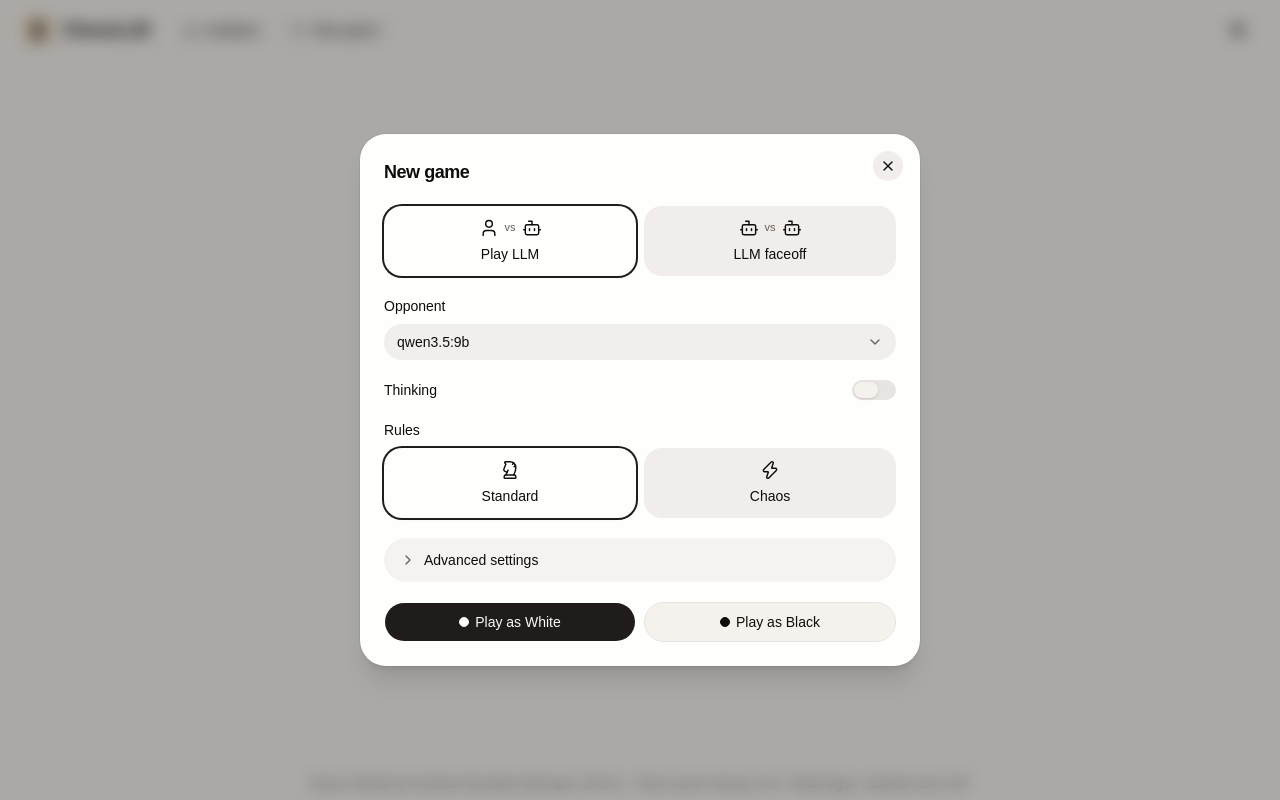
Test: with no current game › starting from the sheet plays the default settings as set
Click the button "Play as White": click(510, 622) x1=384 y1=602 x2=636 y2=642
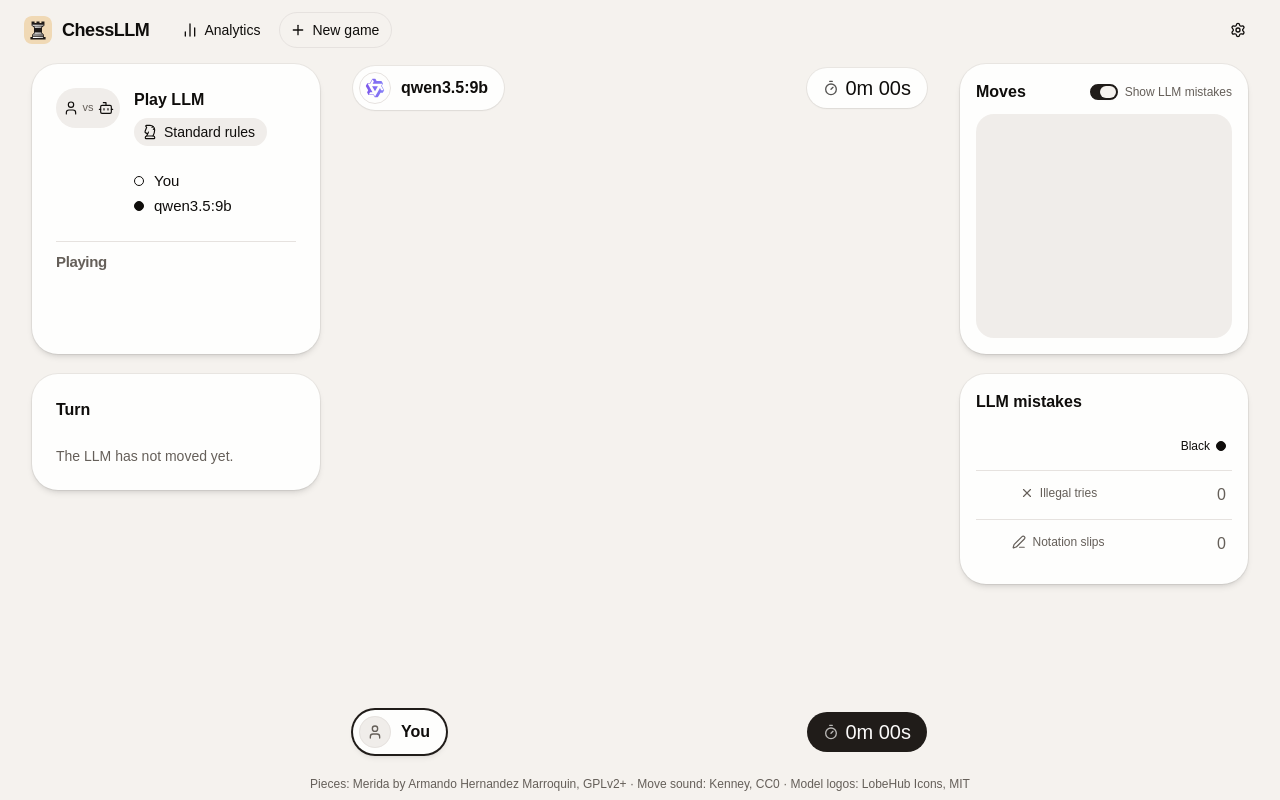
Now the dialog is gone
